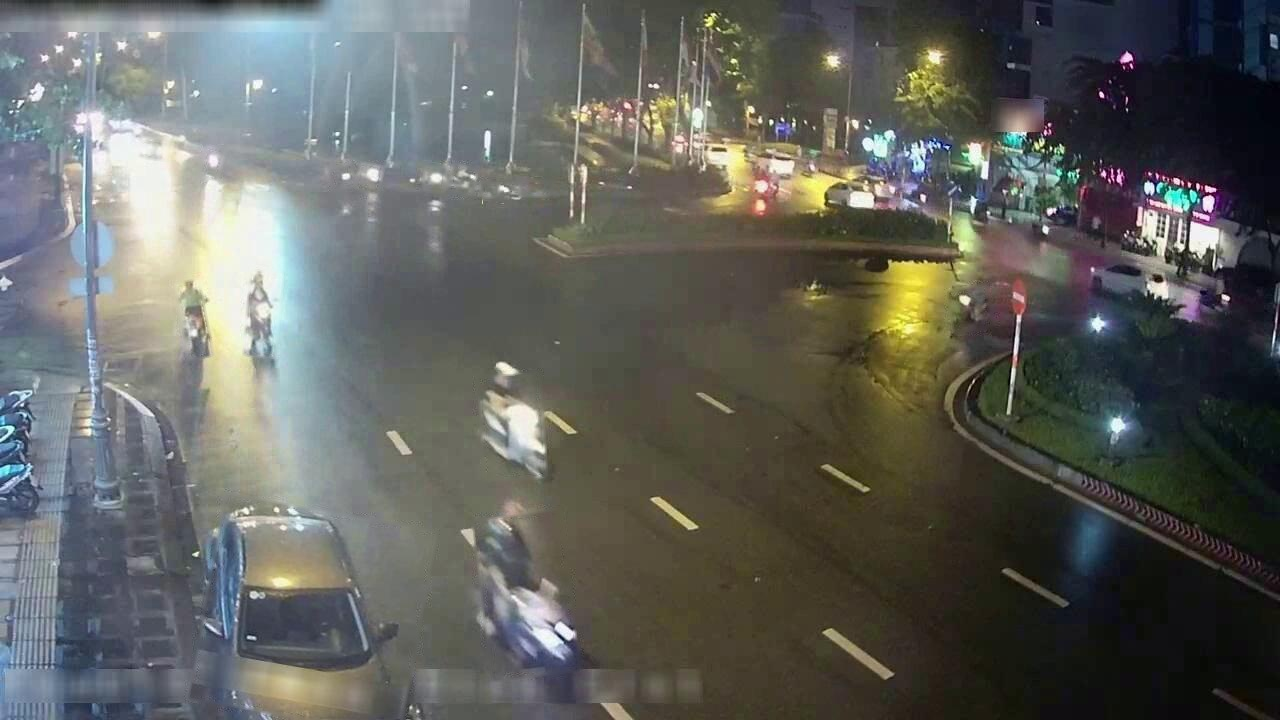Car: (191, 506, 397, 719), (1091, 263, 1148, 296), (137, 136, 166, 159)
Motorcycle: (475, 516, 582, 675), (479, 361, 551, 480), (0, 463, 39, 513), (0, 388, 34, 434), (0, 426, 28, 463), (0, 441, 27, 466)
Motorcyclist: (179, 280, 210, 357), (246, 272, 274, 357), (952, 286, 991, 328), (356, 165, 383, 192), (450, 167, 477, 193), (329, 166, 355, 189), (204, 150, 224, 179), (423, 168, 445, 194), (526, 177, 552, 198), (480, 184, 506, 203)
Sign: (1011, 279, 1026, 315)
